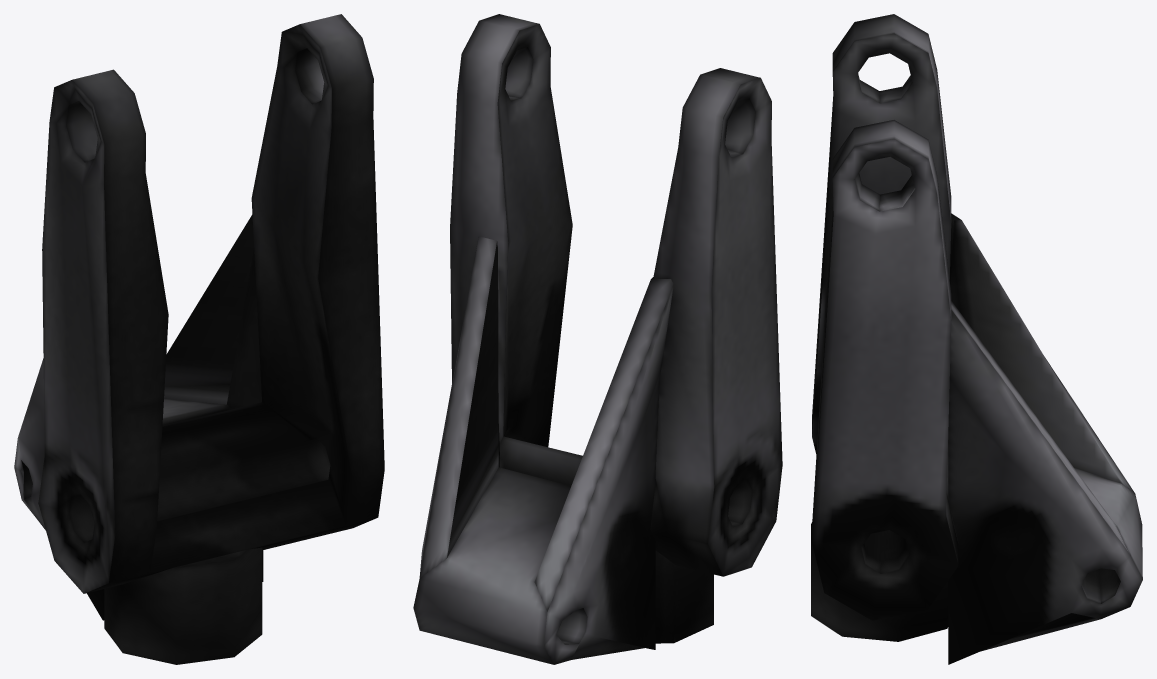
Rendered from l_uglut.obj.
3 renders of one model, left to right at view 1: azimuth 30°, elevation 25°; view 2: azimuth 150°, elevation 25°; view 3: azimuth 270°, elevation 25°, orthographic. The views are drawn at different scales.
Parts seen in each view (by area): view 1: <dummy_root>; view 2: <dummy_root>; view 3: <dummy_root>.
Boxes of the visible parts, x1,y1,x2,y2 form: <dummy_root>: (14,14,384,664); <dummy_root>: (413,14,782,664); <dummy_root>: (811,14,1142,664).
Bounding box in the file's own units: 0.0824 × 0.1684 × 0.0922.
Materials: 1 (1 with a texture image).
